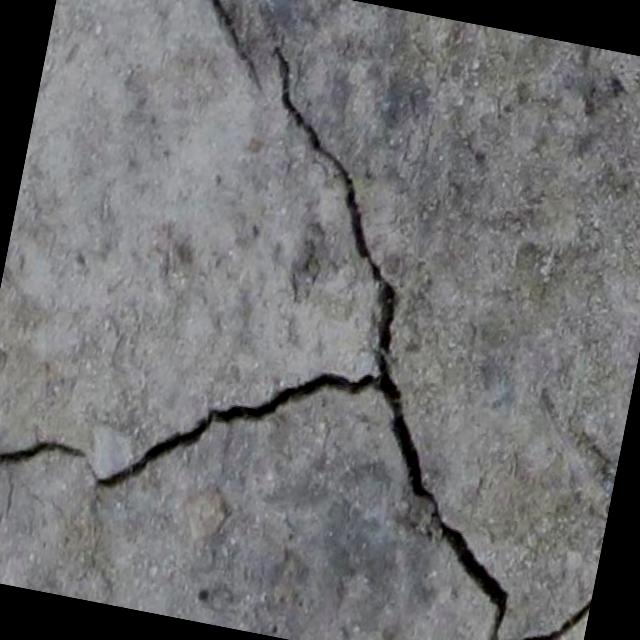crack: (0, 295, 626, 640), (222, 49, 458, 375), (152, 0, 287, 101)
